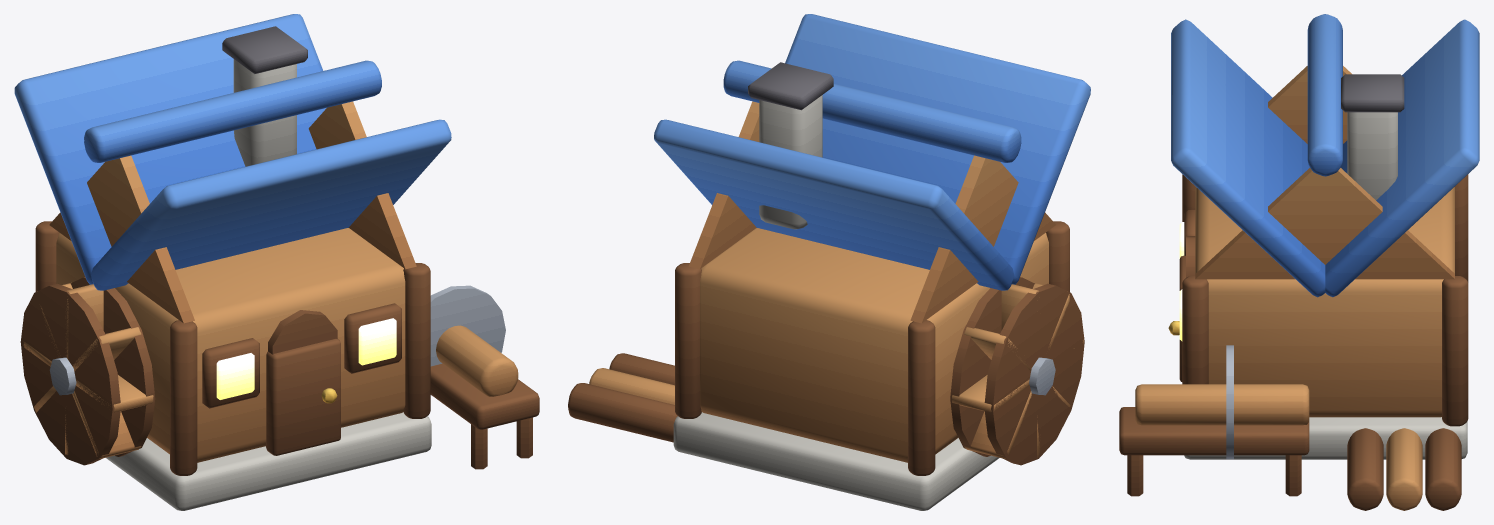
Rendered from millB.glb.
3 renders of one model, left to right at view 1: azimuth 30°, elevation 25°; view 2: azimuth 150°, elevation 25°; view 3: azimuth 270°, elevation 25°, orthographic. The views are drawn at different scales.
Parts seen in each view (by area): view 1: millB; view 2: millB; view 3: millB.
Part boxes in pixels (left/top/right/bottom): millB: left=14, top=14, right=539, bottom=510; millB: left=568, top=14, right=1090, bottom=510; millB: left=1119, top=14, right=1479, bottom=510.
Bounding box in the file's own units: 1.44 × 1.19 × 1.14.
1 material, 1 textured.
